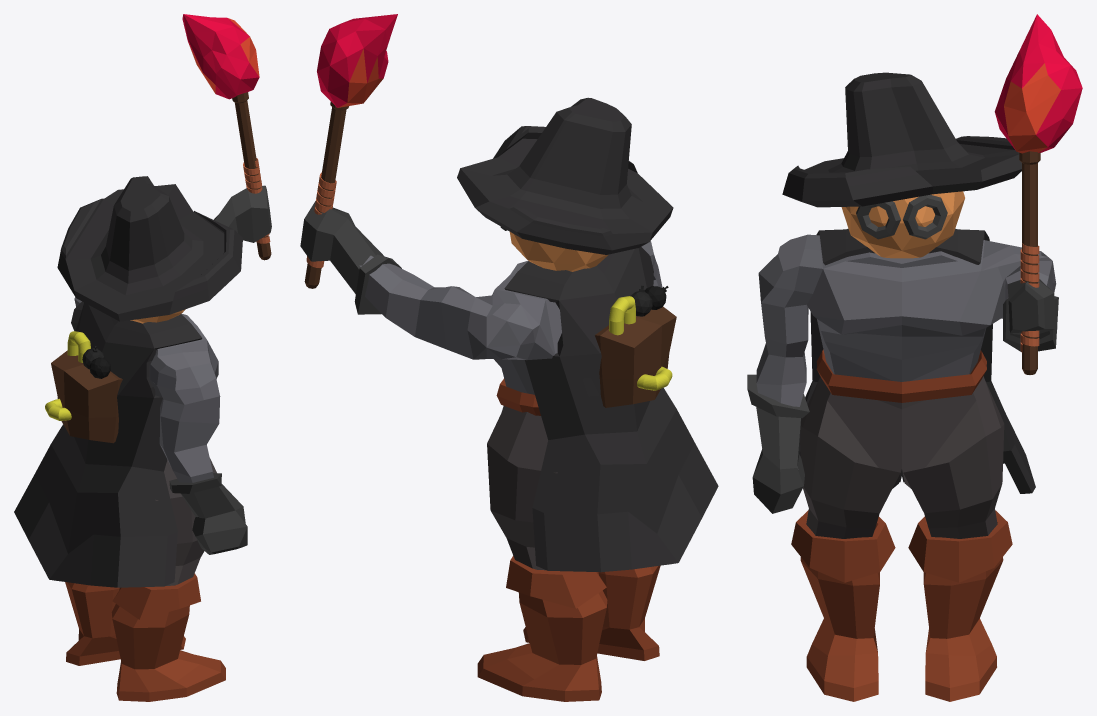
File: Worker.fbx
The picture shows the model from 3 angles, left to right: view 1: azimuth 30°, elevation 25°; view 2: azimuth 150°, elevation 25°; view 3: azimuth 270°, elevation 25°; orthographic projection. The views are drawn at different scales.
Visible parts, largest first — view 1: Cube.008, Circle, Cube.007, Cube.005, Icosphere.008, Cube, Cube.014, Cube.013, Cube.015, Cylinder.005, Plane, Cylinder; view 2: Cube.008, Circle, Cube.007, Cube.005, Cube.015, Icosphere.008, Cube, Cube.013, Icosphere.001, Cylinder.005, Torus.002, Cylinder (+1 smaller); view 3: Cube.005, Cube.015, Cube.007, Circle, Icosphere.008, Cube.008, Cube.014, Icosphere.001, Torus.002, Cube.013, Torus, Cylinder.005 (+1 smaller).
Boxes of the visible parts, bbox=[...] form: Cube.008: bbox=[14, 301, 202, 587]; Circle: bbox=[57, 176, 242, 321]; Cube.007: bbox=[65, 573, 225, 701]; Cube.005: bbox=[74, 297, 220, 482]; Icosphere.008: bbox=[182, 14, 259, 99]; Cube: bbox=[51, 350, 122, 443]; Cube.014: bbox=[169, 473, 247, 554]; Cube.013: bbox=[214, 185, 271, 242]; Cube.015: bbox=[155, 458, 216, 585]; Cylinder.005: bbox=[232, 92, 271, 260]; Plane: bbox=[243, 158, 270, 243]; Cylinder: bbox=[67, 331, 90, 362]; Cube.008: bbox=[504, 247, 718, 572]; Circle: bbox=[457, 97, 673, 254]; Cube.007: bbox=[477, 556, 660, 701]; Cube.005: bbox=[359, 241, 662, 394]; Cube.015: bbox=[487, 406, 557, 570]; Icosphere.008: bbox=[317, 14, 397, 107]; Cube: bbox=[595, 306, 676, 407]; Cube.013: bbox=[300, 201, 401, 314]; Icosphere.001: bbox=[509, 232, 608, 271]; Cylinder.005: bbox=[304, 101, 348, 288]; Torus.002: bbox=[496, 378, 540, 415]; Cylinder: bbox=[609, 296, 635, 335]; Cube.005: bbox=[756, 234, 1057, 469]; Cube.015: bbox=[800, 376, 1004, 538]; Cube.007: bbox=[791, 510, 1012, 701]; Circle: bbox=[782, 72, 1021, 207]; Icosphere.008: bbox=[994, 14, 1082, 153]; Cube.008: bbox=[799, 228, 1035, 493]; Cube.014: bbox=[747, 374, 809, 513]; Icosphere.001: bbox=[841, 191, 964, 258]; Torus.002: bbox=[816, 349, 986, 402]; Cube.013: bbox=[1003, 279, 1058, 351]; Torus: bbox=[856, 194, 947, 239]; Cylinder.005: bbox=[1019, 151, 1040, 374].
Bounding box in the file's own units: 176 × 360 × 155.
